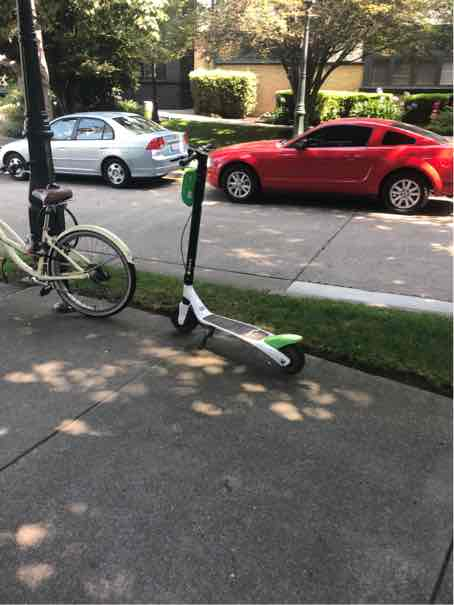scooter: (147, 133, 314, 381)
